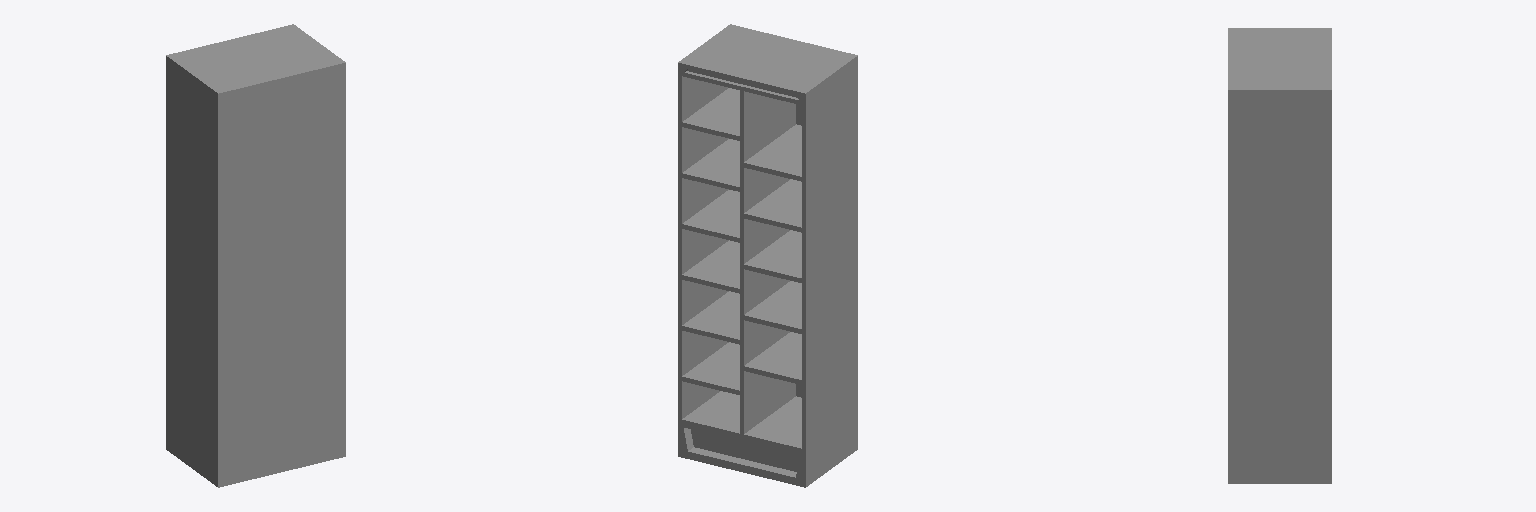
File: shelf.obj
3 renders of one model, left to right at view 1: azimuth 30°, elevation 25°; view 2: azimuth 150°, elevation 25°; view 3: azimuth 270°, elevation 25°, orthographic.
Visible parts, largest first — view 1: Cube.001; view 2: Cube.001; view 3: Cube.001.
Part boxes in pixels (left/top/right/bottom): Cube.001: left=166, top=24, right=345, bottom=487; Cube.001: left=678, top=24, right=857, bottom=487; Cube.001: left=1228, top=28, right=1331, bottom=483.
Bounding box in the file's own units: 1.82 × 5.38 × 1.3.